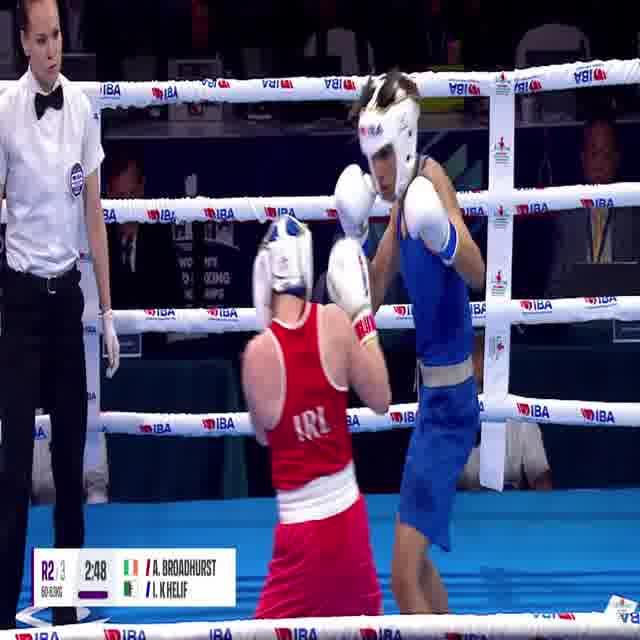blue-player: (333, 74, 487, 640)
red-player: (236, 217, 394, 640)
referee: (0, 0, 122, 640)
